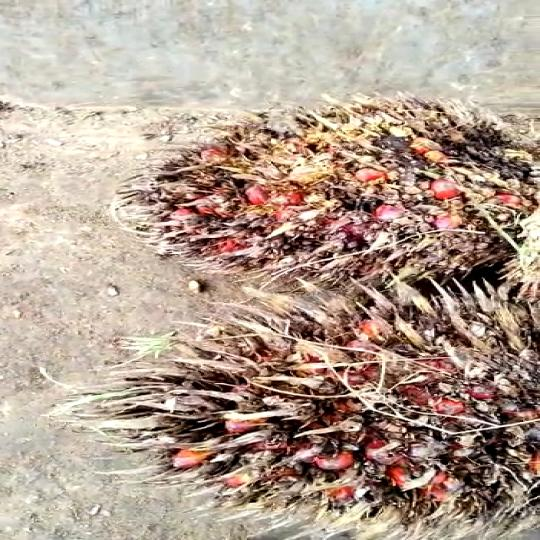terlalu masak: (77, 280, 540, 510), (112, 101, 540, 307)
